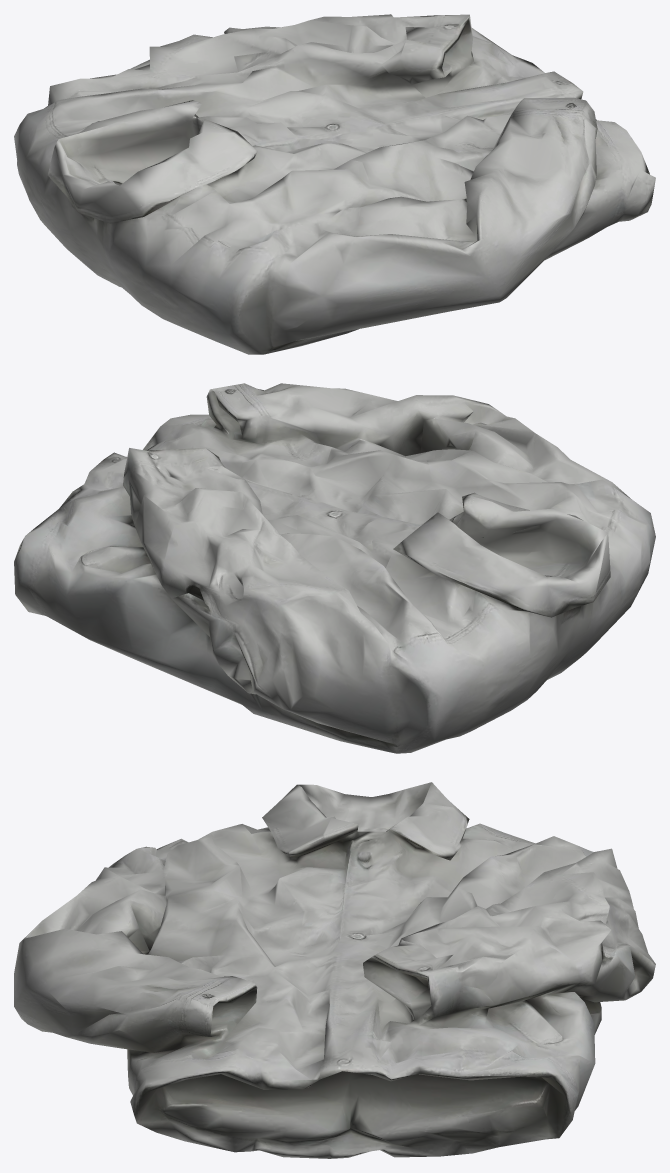
File: ground_jacket.69bdb95653.glb
The picture shows the model from 3 angles, top to bottom: view 1: azimuth 30°, elevation 25°; view 2: azimuth 150°, elevation 25°; view 3: azimuth 270°, elevation 25°; orthographic projection. The views are drawn at different scales.
Visible parts, largest first — view 1: ground_jacket; view 2: ground_jacket; view 3: ground_jacket.
Part boxes in pixels (<box>): ground_jacket: <box>14,14,655,354</box>; ground_jacket: <box>14,383,655,753</box>; ground_jacket: <box>14,782,655,1158</box>.
Size of the model in its own units: 0.603 by 0.2033 by 0.62.
1 material, 1 textured.
